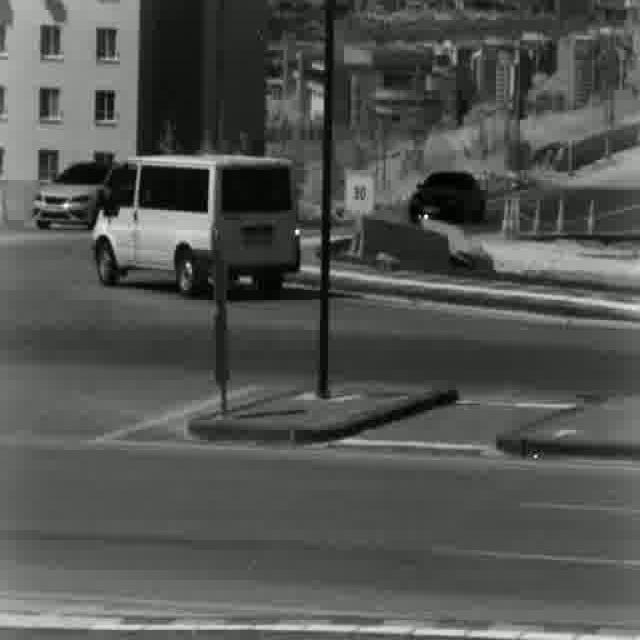Car: (91, 155, 297, 284), (31, 161, 112, 228), (408, 173, 484, 224)
